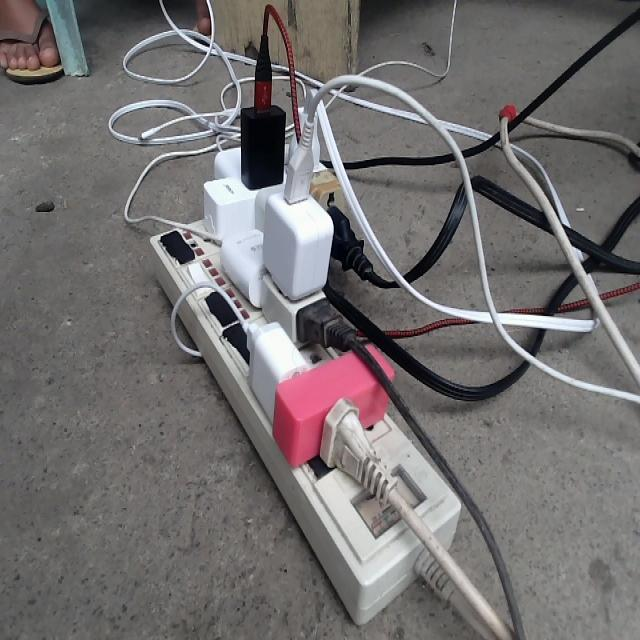-: (149, 96, 462, 621)
